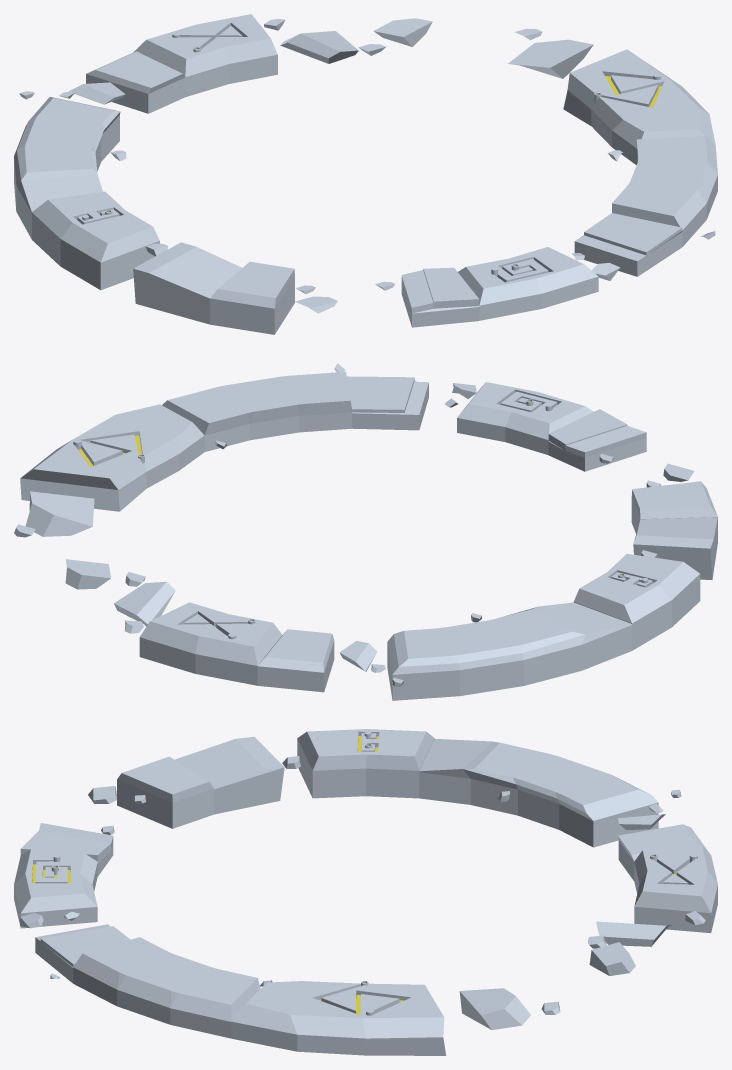
3 renders of one model, top to bottom at view 1: azimuth 30°, elevation 25°; view 2: azimuth 150°, elevation 25°; view 3: azimuth 270°, elevation 25°, orthographic.
Visible parts, largest first — view 1: Cylinder; view 2: Cylinder; view 3: Cylinder.
Boxes of the visible parts, x1=… form: Cylinder: x1=14, y1=14, x2=717, y2=334; Cylinder: x1=14, y1=363, x2=717, y2=700; Cylinder: x1=14, y1=729, x2=717, y2=1055.
Size of the model in its own units: 4183 by 284 by 4106.
